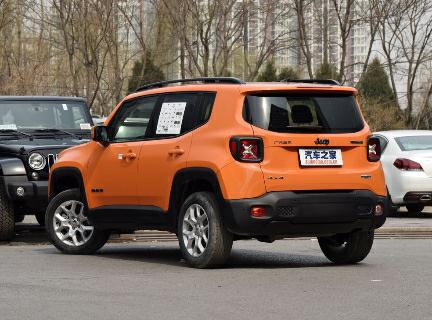Jeep-指南者: (32, 78, 397, 278)
